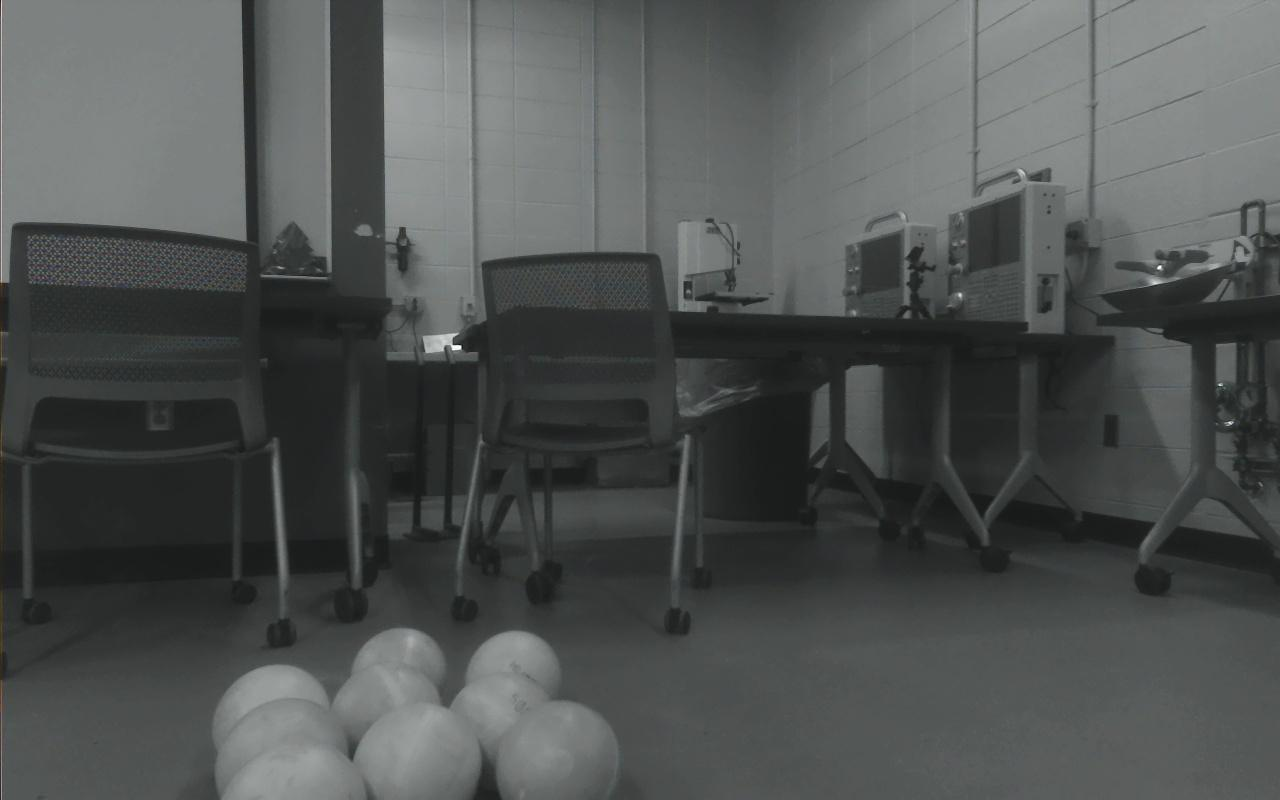Fuel: (211, 662, 332, 782), (215, 696, 351, 800), (330, 661, 443, 781), (447, 669, 557, 790), (352, 701, 484, 800), (494, 699, 621, 800), (349, 625, 451, 733), (463, 628, 564, 731), (221, 742, 366, 800)
